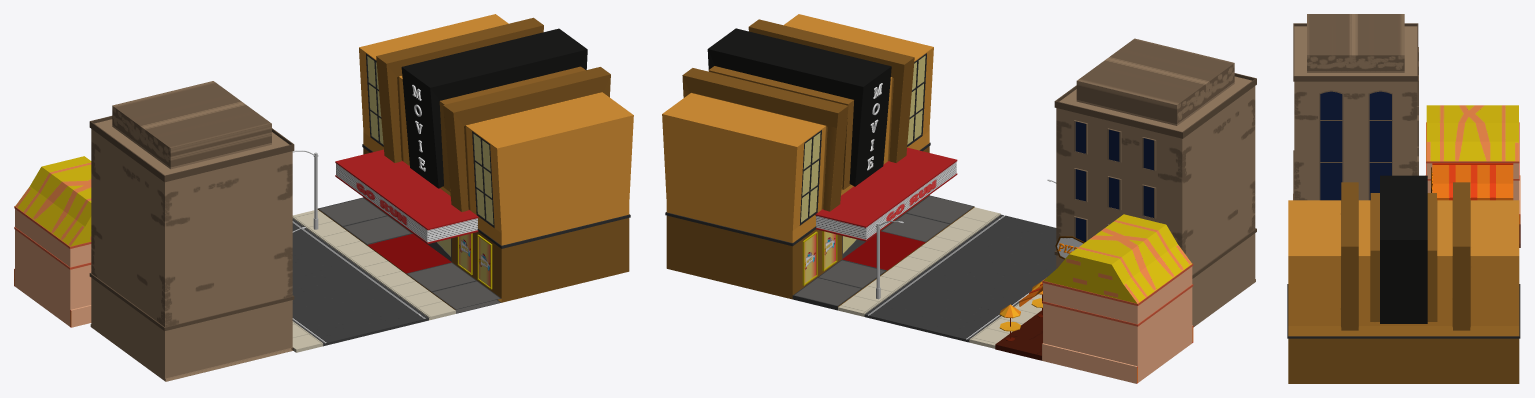
File: CityPt4.fbx
The picture shows the model from 3 angles, left to right: view 1: azimuth 30°, elevation 25°; view 2: azimuth 150°, elevation 25°; view 3: azimuth 270°, elevation 25°; orthographic projection. The views are drawn at different scales.
Parts seen in each view (by area): view 1: Ed09, Ed10, StreetCo.003, Ed08; view 2: Ed09, Ed10, Ed08, StreetCo.003; view 3: Ed09, Ed10, Ed08.
Boxes of the visible parts, x1,y1,x2,y2 form: Ed09: (317, 14, 633, 313); Ed10: (89, 81, 294, 381); StreetCo.003: (292, 210, 455, 352); Ed08: (14, 156, 91, 327); Ed09: (662, 14, 974, 310); Ed10: (1054, 38, 1256, 327); Ed08: (995, 214, 1193, 383); StreetCo.003: (838, 207, 1056, 348); Ed09: (1287, 175, 1520, 383); Ed10: (1293, 14, 1418, 200); Ed08: (1425, 105, 1520, 247).
Size of the model in its own units: 30.7 by 13.43 by 15.14.
